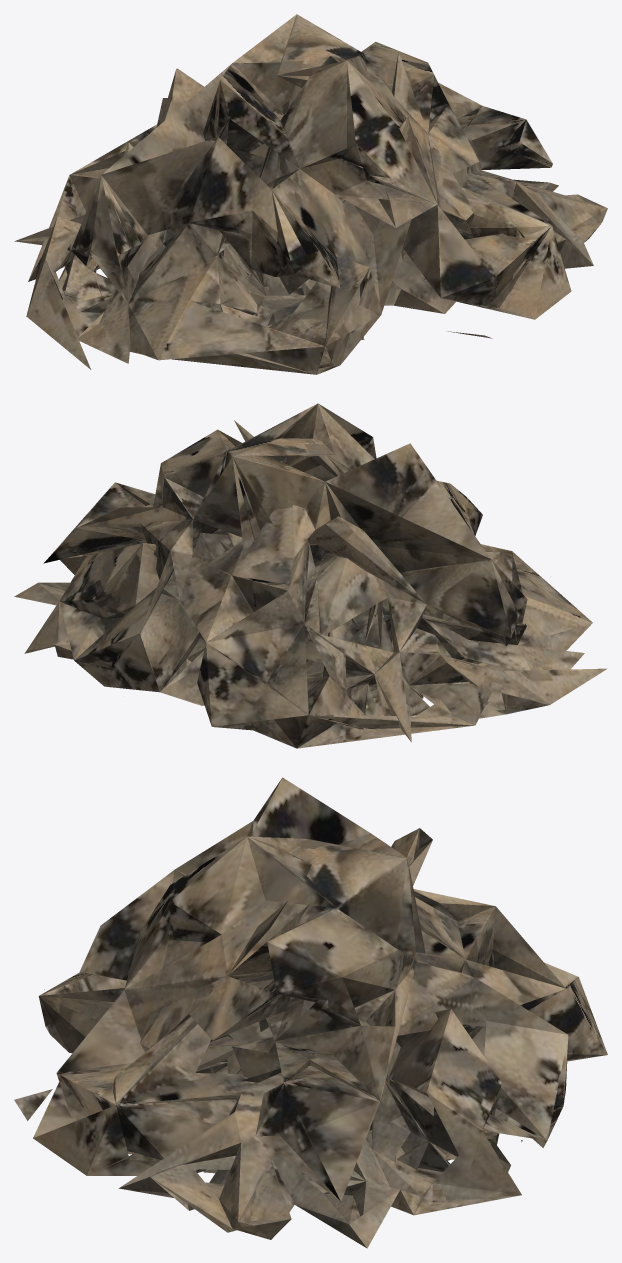
The model's file is bones.glb.
3 views of the same model, one above another, from view 1: azimuth 30°, elevation 25°; view 2: azimuth 150°, elevation 25°; view 3: azimuth 270°, elevation 25° (orthographic). The views are drawn at different scales.
Visible parts, largest first — view 1: lo; view 2: lo; view 3: lo.
Part boxes in pixels (left/top/right/bottom): lo: left=14, top=14, right=607, bottom=374; lo: left=14, top=403, right=607, bottom=748; lo: left=14, top=777, right=607, bottom=1248.
Size of the model in its own units: 1.16 by 0.4763 by 0.9504.
Materials: 1 (1 with a texture image).
